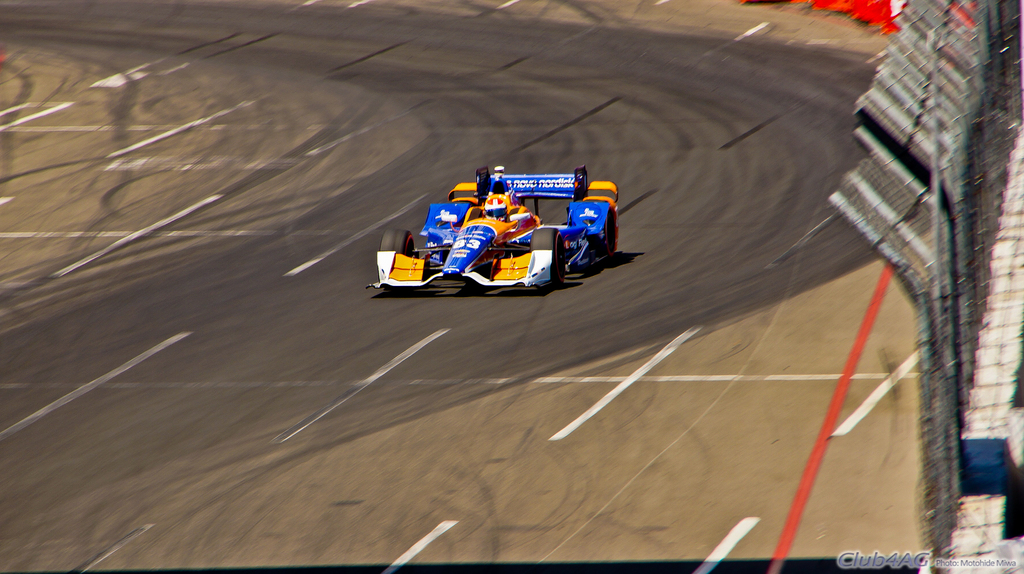Car: (363, 165, 621, 297)
